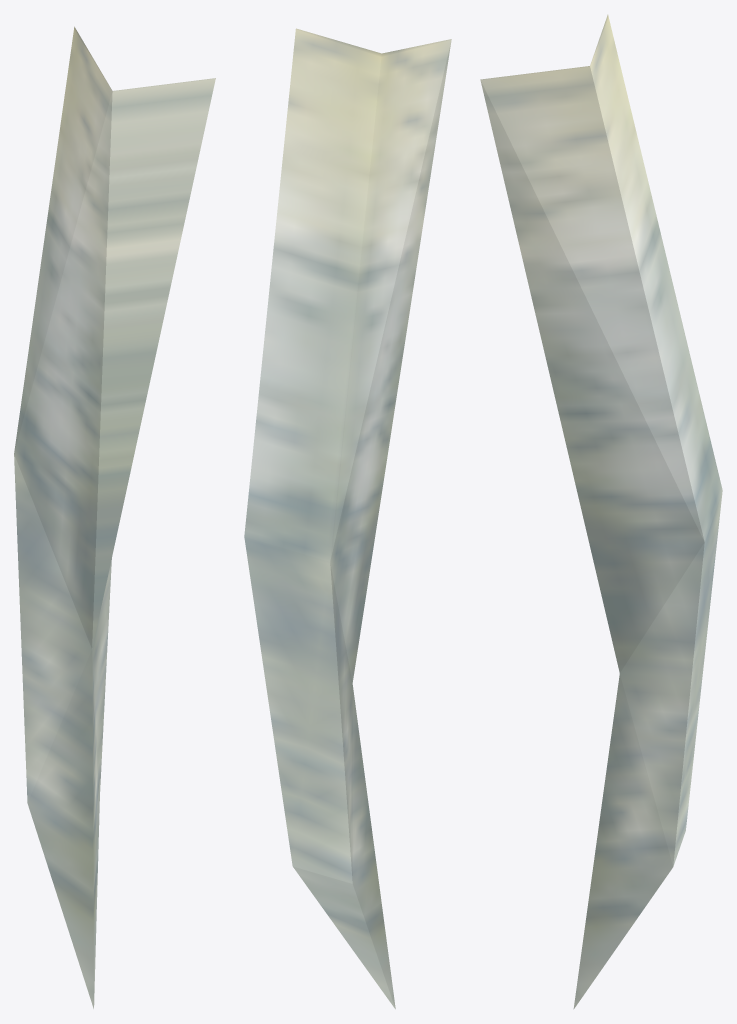
The model's file is rib17.glb.
3 renders of one model, left to right at view 1: azimuth 30°, elevation 25°; view 2: azimuth 150°, elevation 25°; view 3: azimuth 270°, elevation 25°, orthographic. The views are drawn at different scales.
Parts seen in each view (by area): view 1: rib17; view 2: rib17; view 3: rib17.
Part boxes in pixels (x1=…): rib17: x1=14, y1=26, x2=215, y2=1008; rib17: x1=244, y1=28, x2=451, y2=1009; rib17: x1=480, y1=14, x2=722, y2=1009.
Size of the model in its own units: 293 by 2451 by 541.
Materials: 1 (1 with a texture image).
